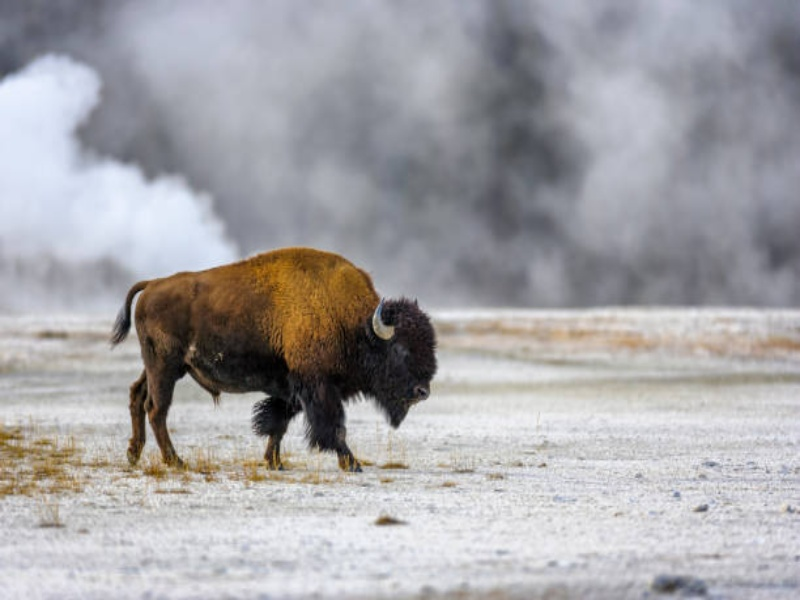buffalo: (105, 244, 442, 488)
